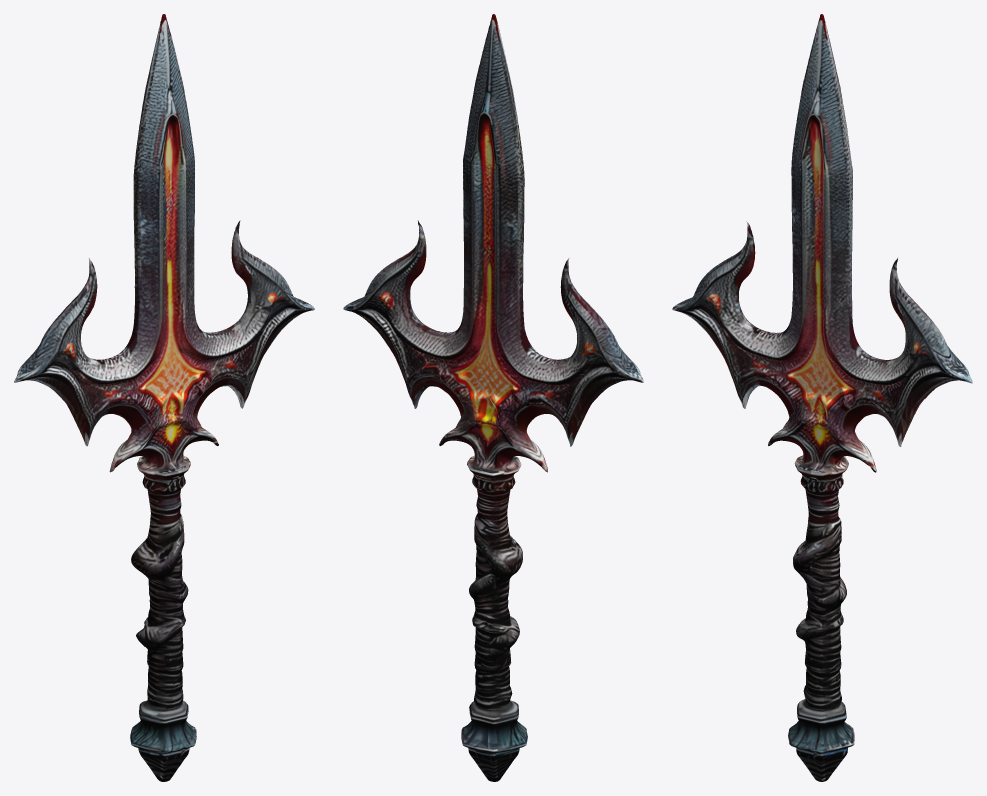
The model's file is TripoSG.glb.
The picture shows the model from 3 angles, left to right: view 1: azimuth 30°, elevation 25°; view 2: azimuth 150°, elevation 25°; view 3: azimuth 330°, elevation 25°; orthographic projection.
Visible parts, largest first — view 1: geometry_0; view 2: geometry_0; view 3: geometry_0.
Boxes of the visible parts, x1=… form: geometry_0: x1=14, y1=14, x2=314, y2=781; geometry_0: x1=343, y1=14, x2=643, y2=781; geometry_0: x1=672, y1=14, x2=972, y2=781.
Size of the model in its own units: 0.7664 by 1.87 by 0.1475.
1 material, 1 textured.
